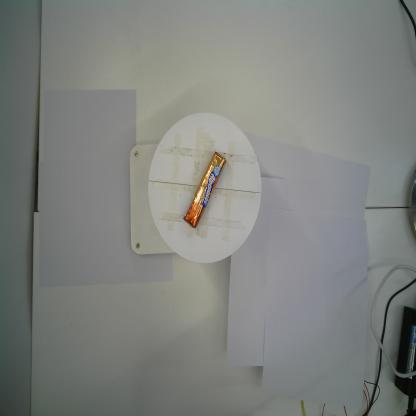Candy: (182, 150, 227, 229)
